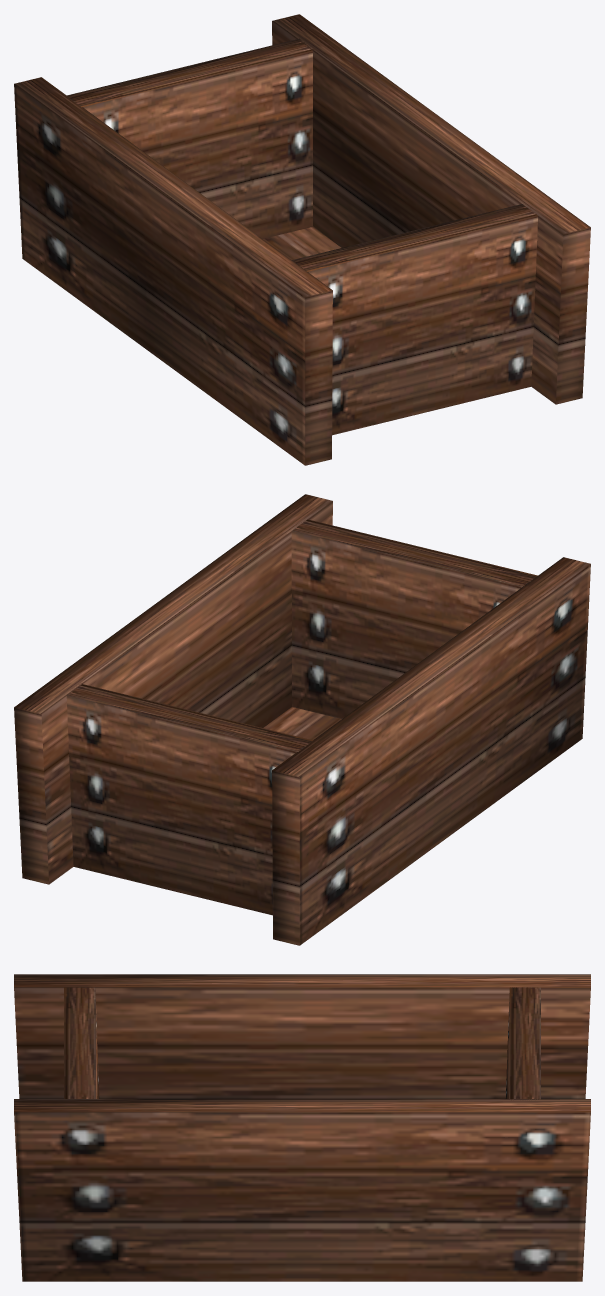
Rendered from crate02.obj.
3 views of the same model, one above another, from view 1: azimuth 30°, elevation 25°; view 2: azimuth 150°, elevation 25°; view 3: azimuth 270°, elevation 25° (orthographic).
Parts seen in each view (by area): view 1: crate02; view 2: crate02; view 3: crate02.
Boxes of the visible parts, bbox=[...] form: crate02: bbox=[14, 14, 590, 465]; crate02: bbox=[14, 494, 590, 945]; crate02: bbox=[14, 974, 590, 1281].
Bounding box in the file's own units: 0.8646 × 0.5002 × 1.53.
Materials: 1 (1 with a texture image).
